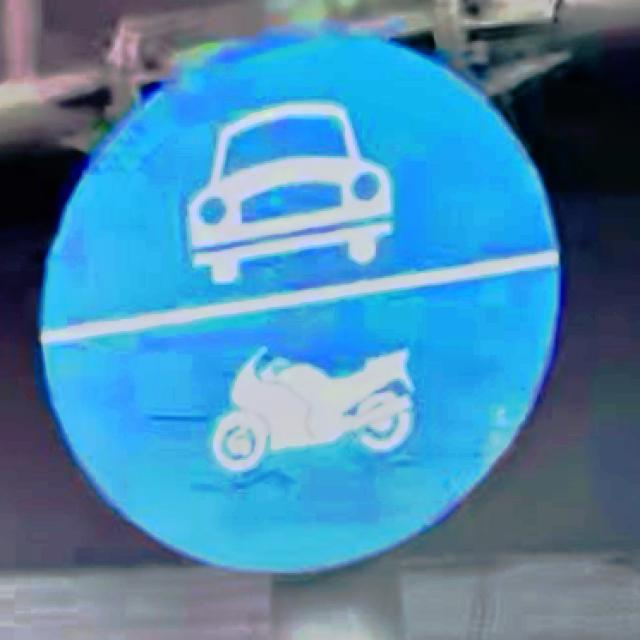carmotorcycle: (38, 29, 563, 578)
